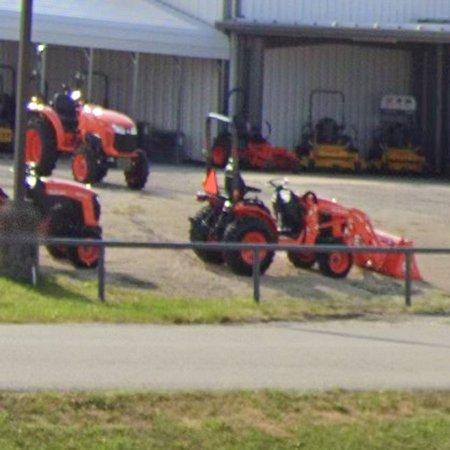tractors: (190, 114, 412, 247), (25, 91, 149, 189), (26, 168, 101, 238), (289, 253, 405, 279), (195, 248, 255, 275), (47, 247, 98, 269)
